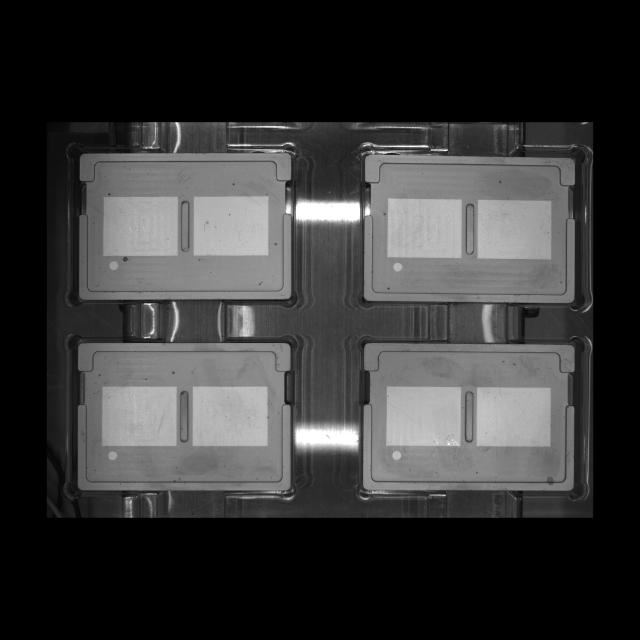product: (355, 141, 588, 311), (65, 140, 299, 309), (65, 331, 297, 501), (356, 337, 584, 500)
